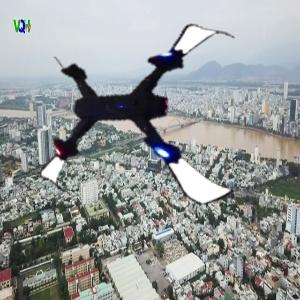drone: (45, 6, 248, 209)
